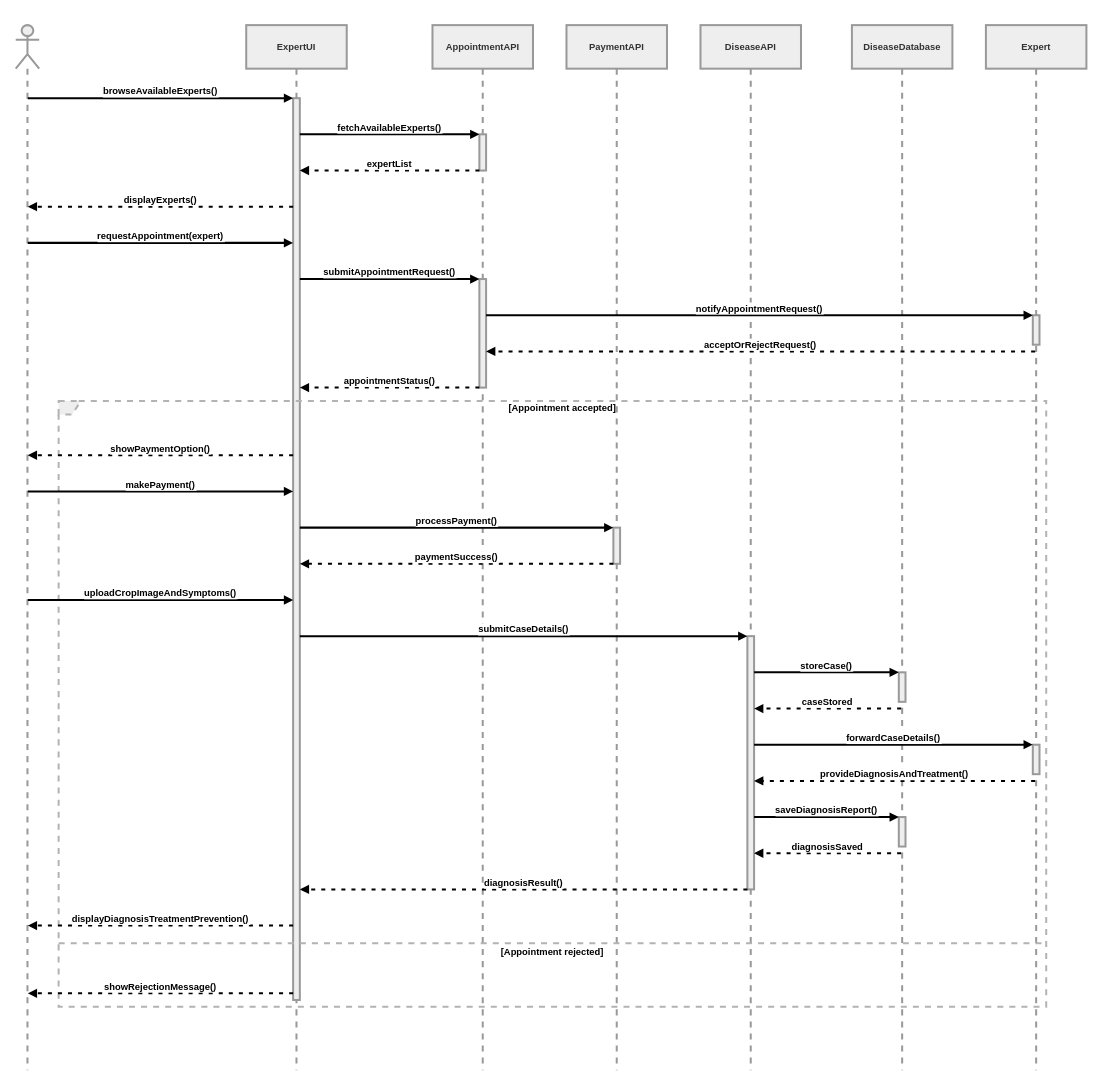
Some shapes in this 1099 by 1083 pixel diagram are drawn without their labels. Here are the shapes that lost their labels. From the top down, the box of each, then its label:
(14, 24, 40, 1071): Farmer
(57, 400, 1047, 1007): alt
